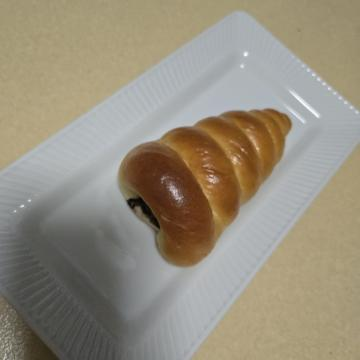cream horn: (85, 57, 290, 262)
